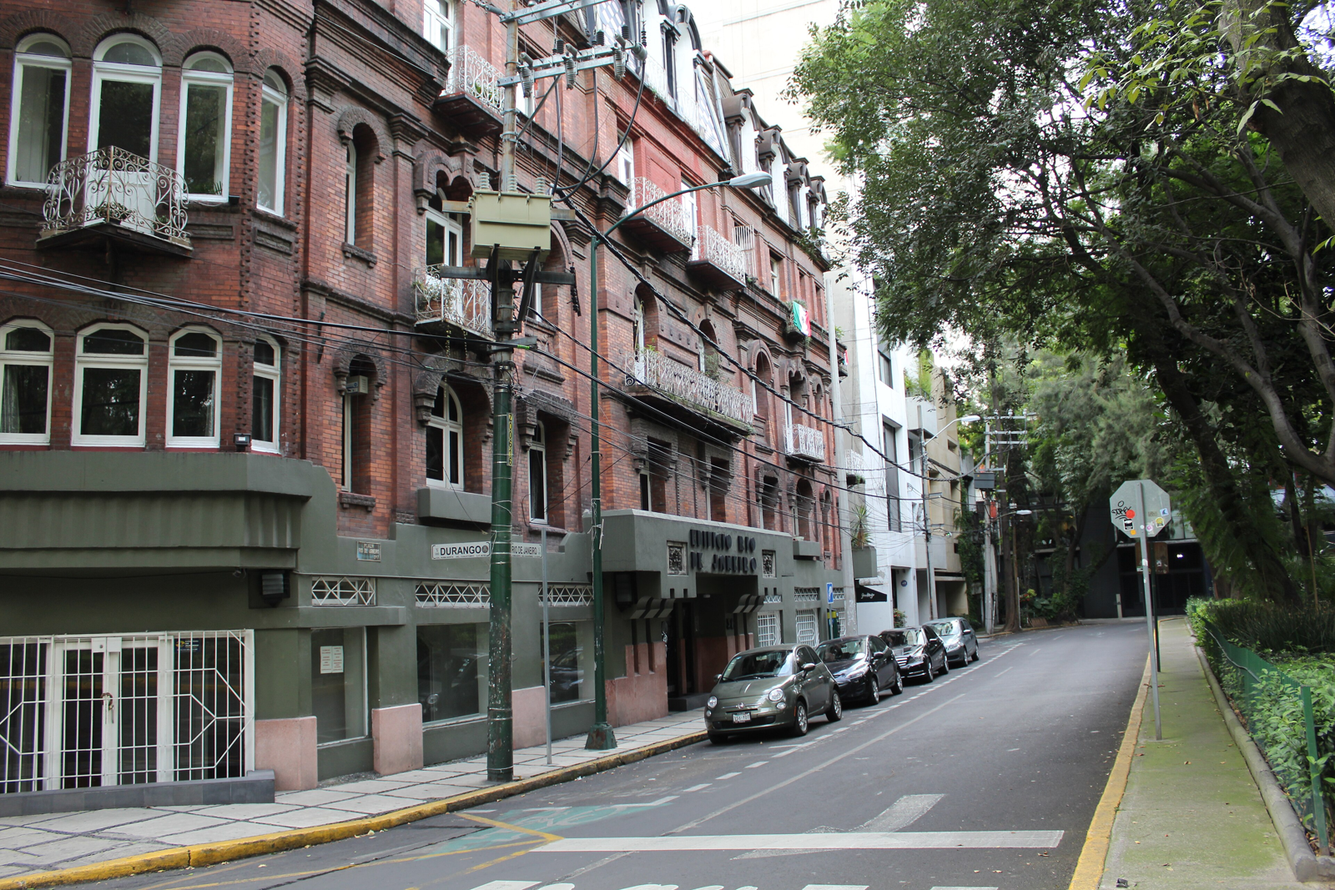fachada: (4, 4, 866, 736), (864, 265, 997, 644), (1020, 444, 1249, 636)
poste: (578, 146, 772, 740), (478, 0, 576, 805)
